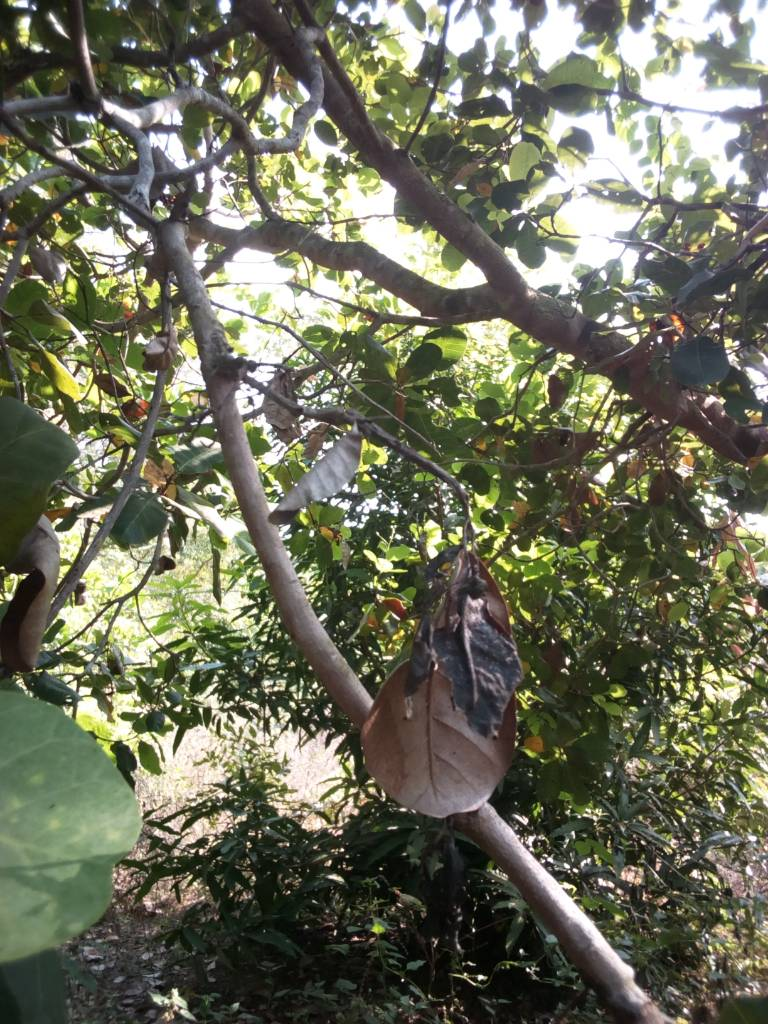Die-black: (360, 520, 545, 736)
